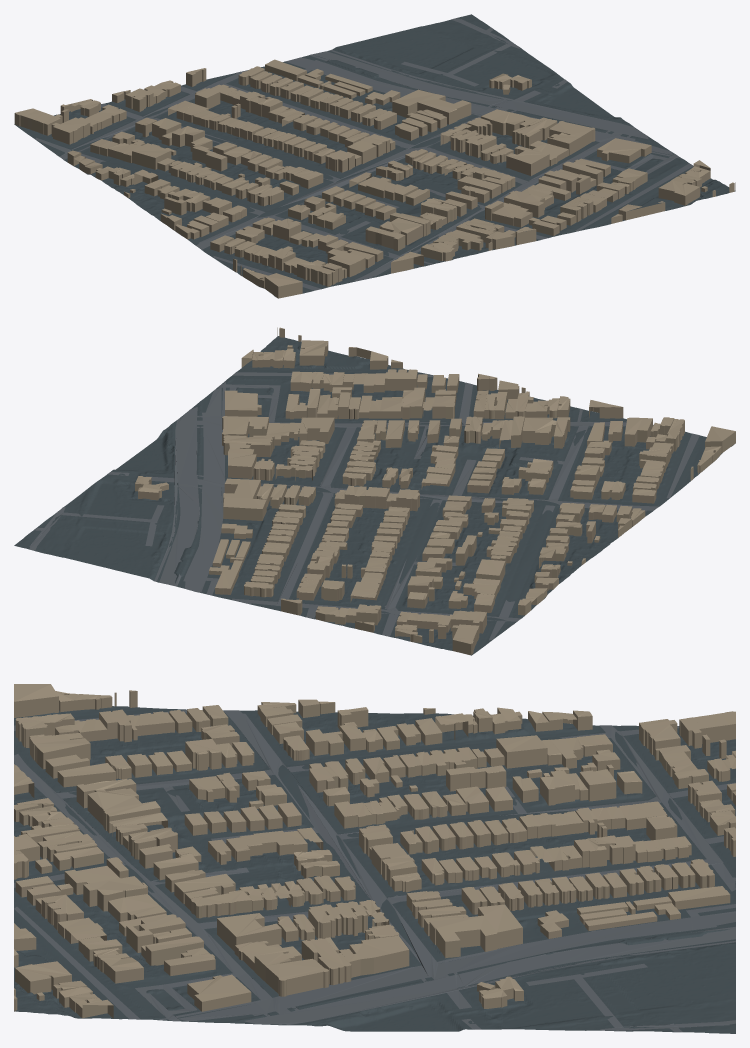
File: epsg26910-1438-10869.lod0.glb
3 views of the same model, one above another, from view 1: azimuth 30°, elevation 25°; view 2: azimuth 150°, elevation 25°; view 3: azimuth 270°, elevation 25° (orthographic). The views are drawn at different scales.
Visible parts, largest first — view 1: epsg26910-1438-10869-lod0; view 2: epsg26910-1438-10869-lod0; view 3: epsg26910-1438-10869-lod0.
Boxes of the visible parts, box(x1,y1,x2,y2) form: epsg26910-1438-10869-lod0: box(14, 14, 735, 298); epsg26910-1438-10869-lod0: box(14, 327, 735, 655); epsg26910-1438-10869-lod0: box(14, 684, 735, 1033).
Bounding box in the file's own units: 384 × 28.24 × 384.
